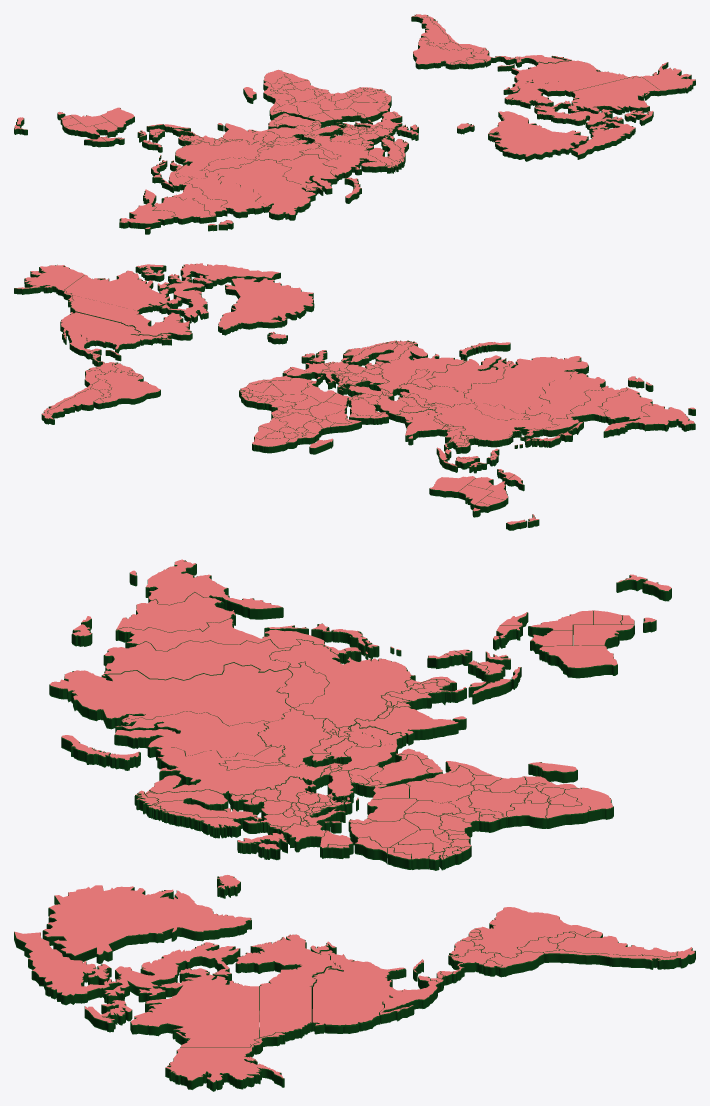
File: New_Countries.fbx
The picture shows the model from 3 angles, top to bottom: view 1: azimuth 30°, elevation 25°; view 2: azimuth 150°, elevation 25°; view 3: azimuth 270°, elevation 25°; orthographic projection. The views are drawn at different scales.
Visible parts, largest first — view 1: Russia, Canada, Greenland, China, Australia, United States of America, Brazil, Alaska, Kazakhstan, Indonesia, India, Argentina (+6 smaller); view 2: Russia, Canada, Greenland, China, United States of America, Australia, Brazil, Alaska, Kazakhstan, India, Argentina, Indonesia (+8 smaller); view 3: Russia, Canada, Greenland, China, Australia, United States of America, Alaska, Brazil, Kazakhstan, India, Chile, Indonesia (+21 smaller).
Boxes of the visible parts, x1,y1,x2,y2 form: Russia: (119, 136, 386, 234); Canada: (503, 71, 660, 159); Greenland: (488, 111, 588, 161); China: (175, 140, 264, 178); Australia: (57, 107, 134, 139); United States of America: (511, 60, 600, 89); Brazil: (413, 39, 474, 69); Alaska: (618, 62, 695, 95); Kazakhstan: (255, 139, 320, 161); Indonesia: (101, 124, 190, 146); India: (213, 123, 258, 145); Argentina: (420, 17, 450, 44); Russia: (376, 342, 695, 437); Canada: (64, 263, 280, 345); Greenland: (218, 277, 314, 335); China: (434, 403, 558, 447); United States of America: (60, 312, 162, 353); Australia: (429, 476, 508, 517); Brazil: (95, 371, 160, 408); Alaska: (14, 264, 84, 307); Kazakhstan: (399, 383, 474, 407); India: (405, 412, 463, 441); Argentina: (47, 389, 109, 418); Indonesia: (436, 447, 514, 485); Russia: (49, 559, 330, 803); Canada: (14, 931, 342, 1047); Greenland: (42, 885, 251, 963); China: (269, 639, 415, 728); Australia: (528, 610, 656, 678); United States of America: (312, 950, 406, 1034); Alaska: (165, 1032, 285, 1091); Brazil: (471, 907, 597, 958); Kazakhstan: (258, 708, 331, 767); India: (354, 694, 458, 746); Chile: (543, 947, 695, 969); Indonesia: (472, 625, 522, 704).
Bounding box in the file's own units: 249 × 3.12 × 137.
